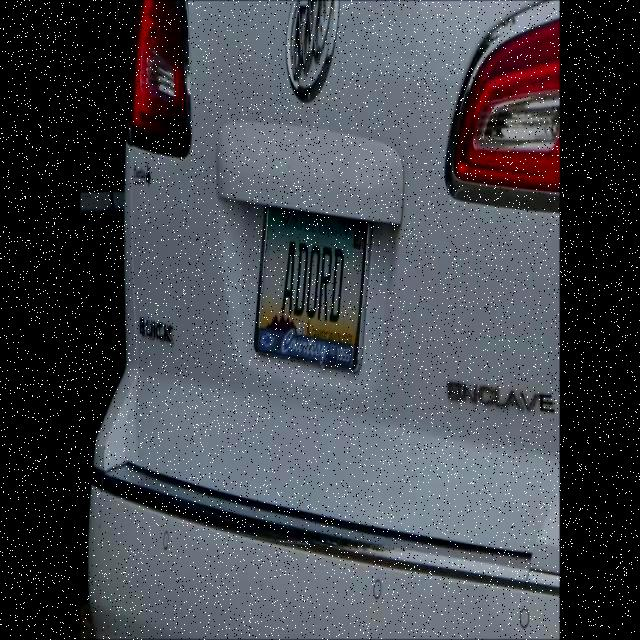licenseplate: (256, 202, 366, 370)
